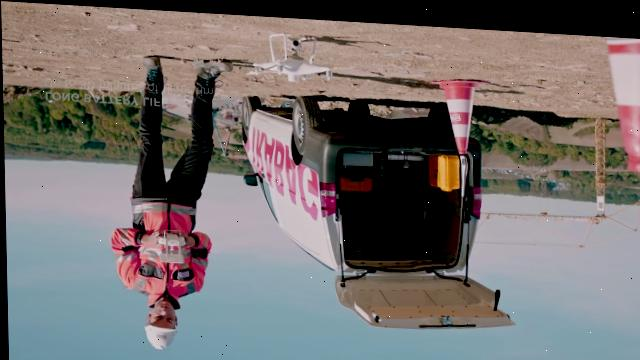drone: (243, 26, 339, 81)
